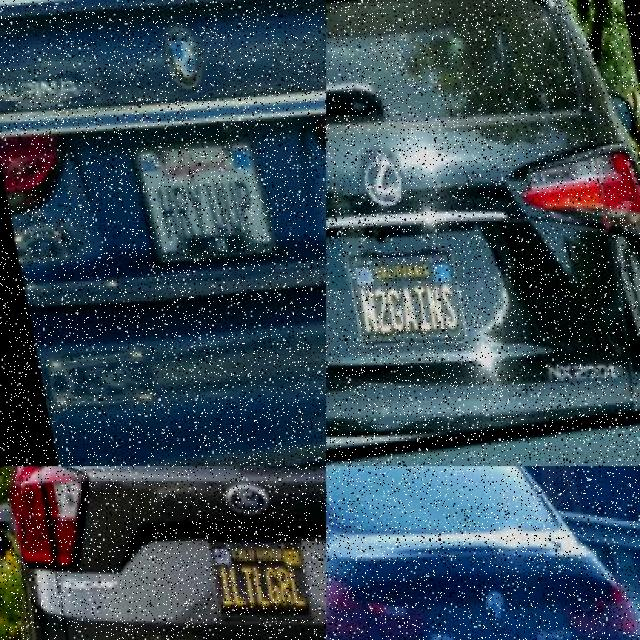licenseplate: (132, 122, 270, 264), (340, 232, 466, 354), (201, 518, 313, 622)
